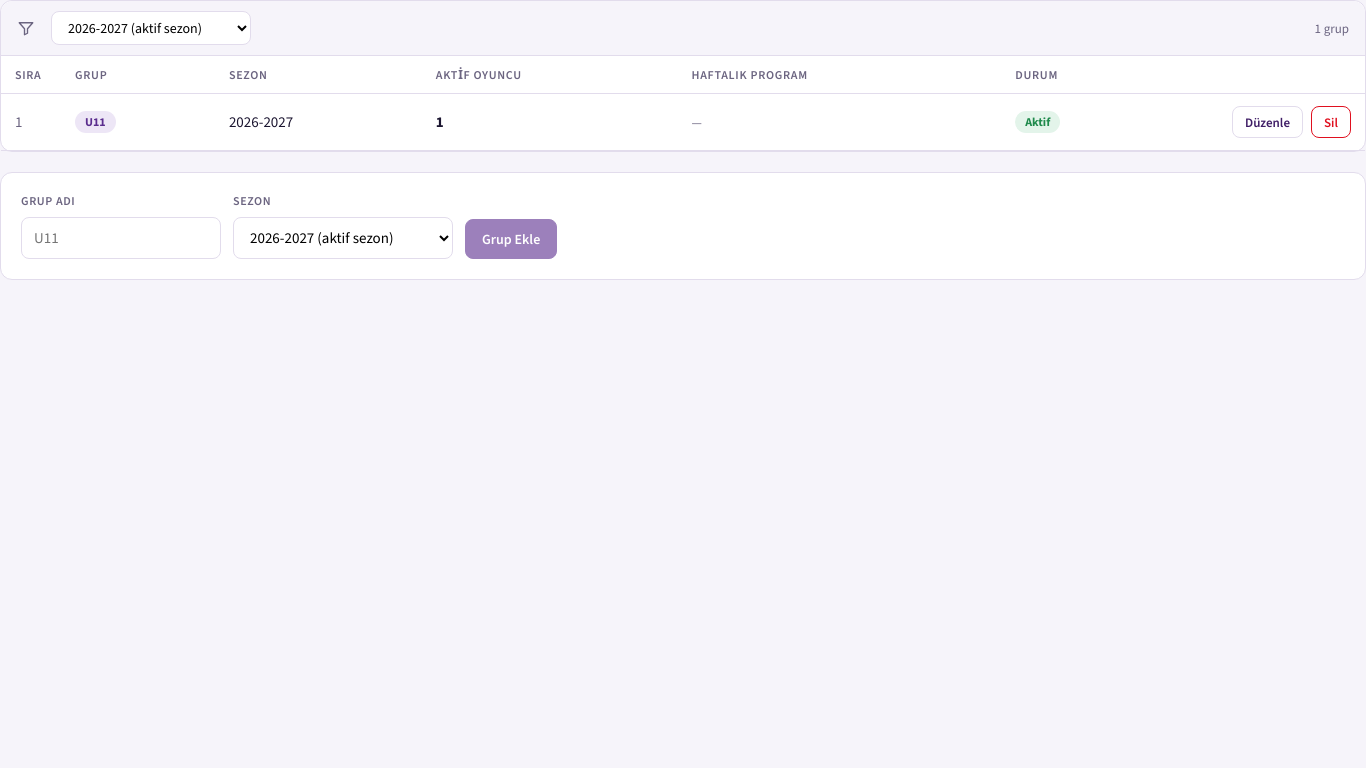
Test: Yaş Grupları ekranı › oyuncusu olan grubu silmeye çalışınca hatayı gösterir
Check: the text "U11" is shown, box [75,111,116,133]
Click the button "Sil".
click(1331, 122)  # box [1311,106,1351,138]
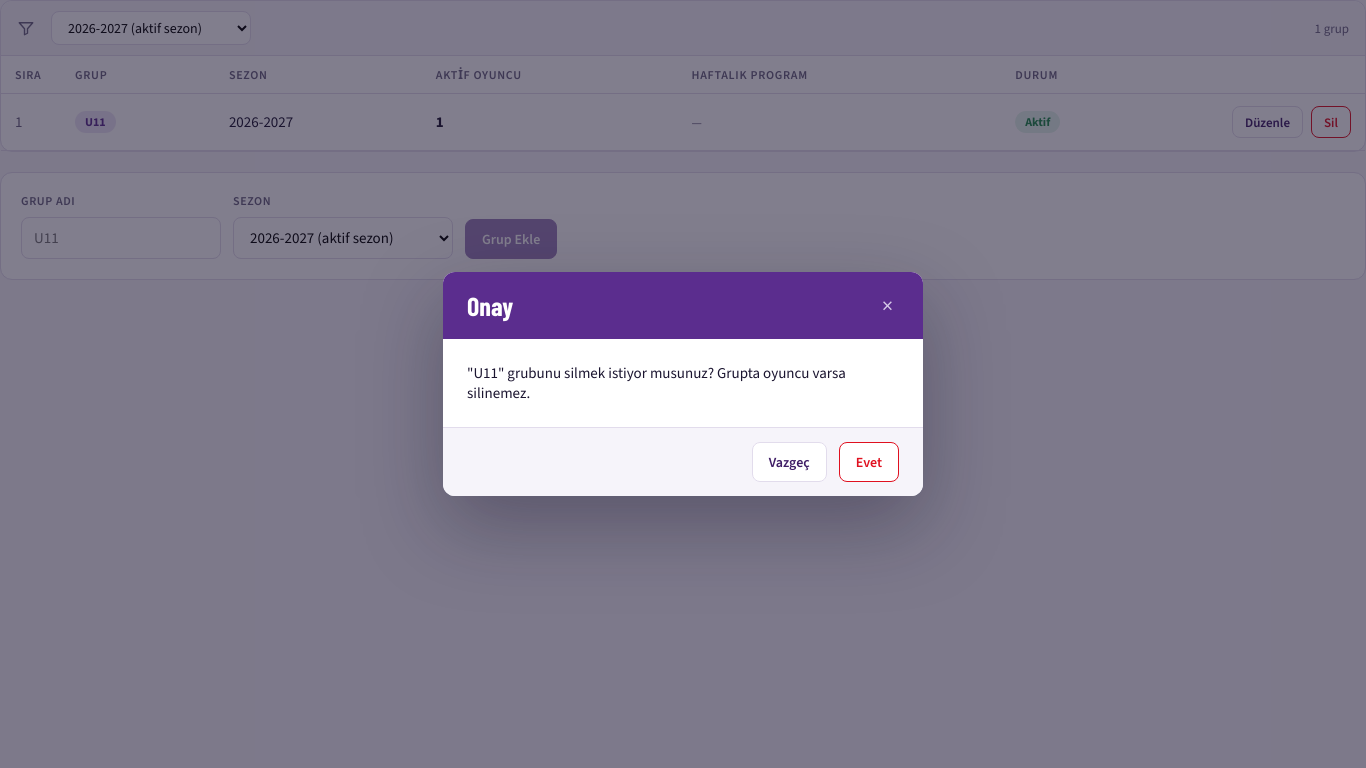
Click the button "Evet".
click(869, 462)  # box [839,442,899,482]
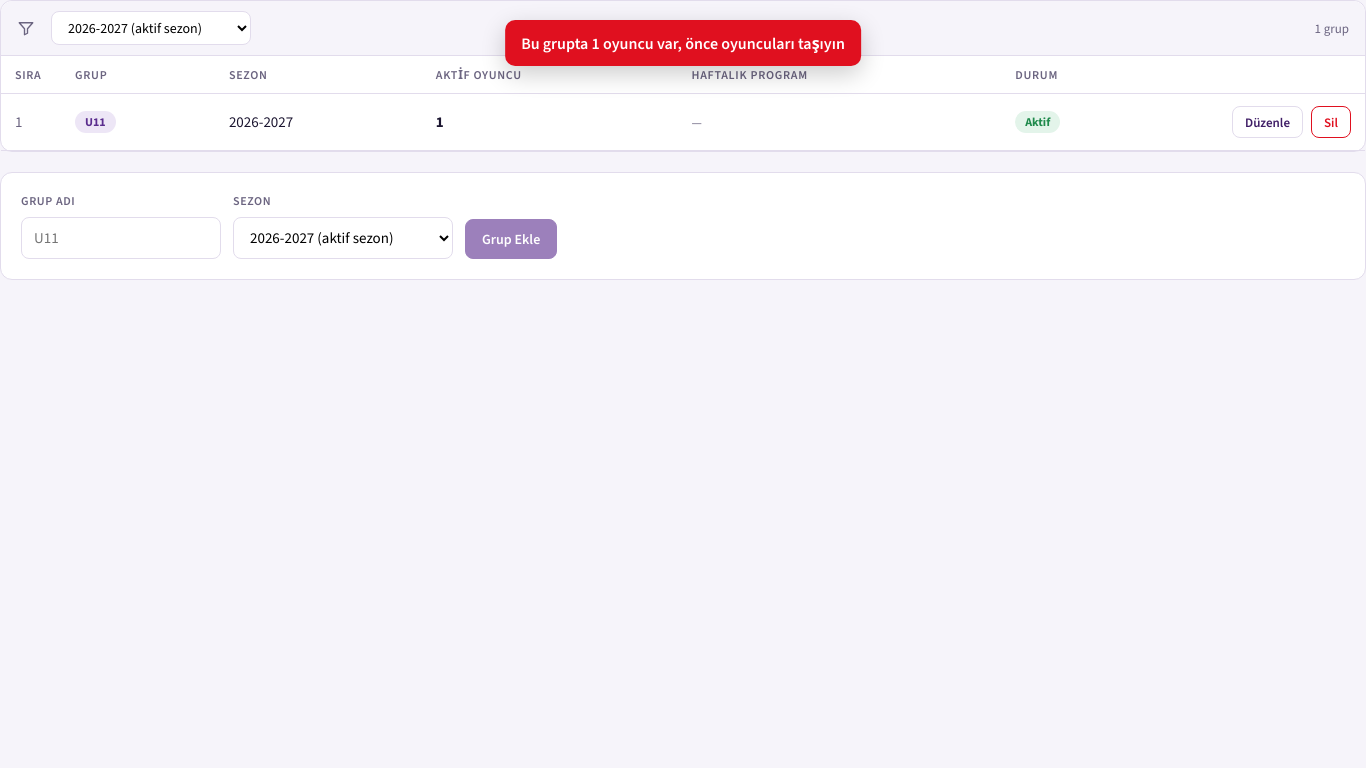
Check: the message shows "önce oyuncuları taşıyın", box [521,33,845,54]
